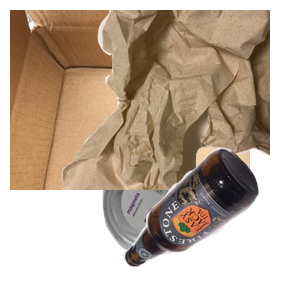cardboard: (10, 10, 250, 190)
glass: (120, 145, 300, 300)
plastic: (100, 152, 293, 300)
trash: (60, 10, 300, 190)
